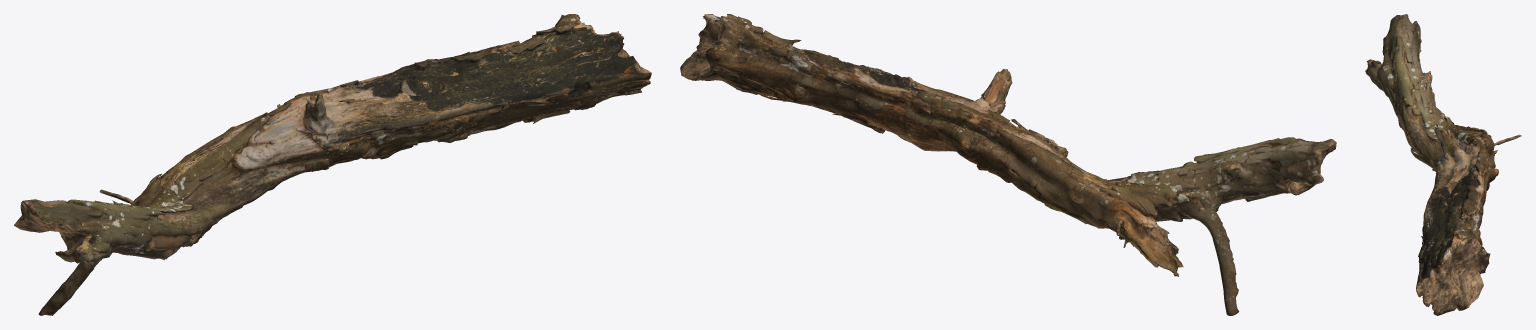
The model's file is fallen_log.glb.
3 renders of one model, left to right at view 1: azimuth 30°, elevation 25°; view 2: azimuth 150°, elevation 25°; view 3: azimuth 270°, elevation 25°, orthographic. The views are drawn at different scales.
Parts seen in each view (by area): view 1: dead_tree_trunk_02; view 2: dead_tree_trunk_02; view 3: dead_tree_trunk_02.
Part boxes in pixels (x1,y1,x2,y2): dead_tree_trunk_02: [14, 14, 651, 315]; dead_tree_trunk_02: [680, 14, 1336, 315]; dead_tree_trunk_02: [1365, 14, 1521, 315].
Bounding box in the file's own units: 4.05 × 1.06 × 1.06.
1 material, 1 textured.
